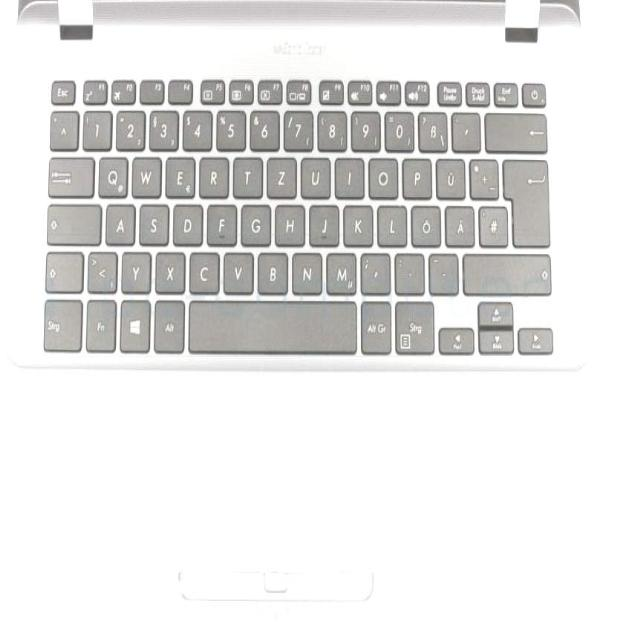0: (382, 107, 413, 149)
1: (80, 106, 111, 148)
2: (114, 106, 144, 148)
3: (147, 106, 178, 148)
4: (180, 107, 211, 148)
5: (214, 107, 244, 148)
6: (248, 107, 278, 148)
7: (281, 107, 312, 148)
8: (315, 107, 346, 149)
9: (349, 107, 379, 149)
a: (104, 200, 135, 243)
accent: (449, 108, 479, 150)
ae: (443, 201, 474, 245)
alt-left: (153, 297, 184, 352)
altgr-right: (360, 298, 391, 353)
b: (256, 248, 288, 292)
c: (187, 247, 218, 292)
caret: (48, 107, 77, 148)
comma: (358, 248, 390, 292)
d: (171, 200, 201, 244)
del: (483, 110, 546, 151)
e: (163, 152, 194, 196)
enter: (500, 156, 549, 246)
f: (205, 200, 236, 244)
g: (239, 200, 270, 244)
h: (273, 200, 304, 244)
hash: (476, 203, 507, 245)
i: (333, 153, 363, 196)
j: (307, 200, 338, 244)
k: (341, 200, 372, 244)
keyboard: (31, 64, 564, 371)
l: (375, 200, 405, 244)
less: (85, 247, 117, 291)
m: (324, 249, 356, 294)
minus: (426, 251, 458, 293)
n: (290, 249, 322, 294)
o: (366, 153, 397, 196)
oe: (409, 201, 440, 244)
p: (400, 154, 431, 196)
plus: (467, 154, 498, 198)
point: (393, 250, 424, 292)
q: (96, 152, 127, 196)
r: (197, 153, 227, 196)
s: (137, 200, 168, 243)
shift-left: (43, 247, 83, 291)
shift-lock: (45, 200, 101, 243)
shift-right: (461, 250, 550, 293)
space: (187, 296, 355, 353)
ss: (417, 108, 446, 149)
strg-left: (41, 297, 82, 352)
strg-right: (393, 298, 434, 353)
t: (231, 152, 261, 195)
tab: (45, 153, 94, 196)
u: (299, 153, 330, 196)
ue: (434, 154, 464, 197)
v: (222, 247, 253, 293)
w: (130, 152, 160, 196)
x: (153, 247, 184, 292)
y: (119, 247, 150, 292)
z: (265, 153, 296, 196)
